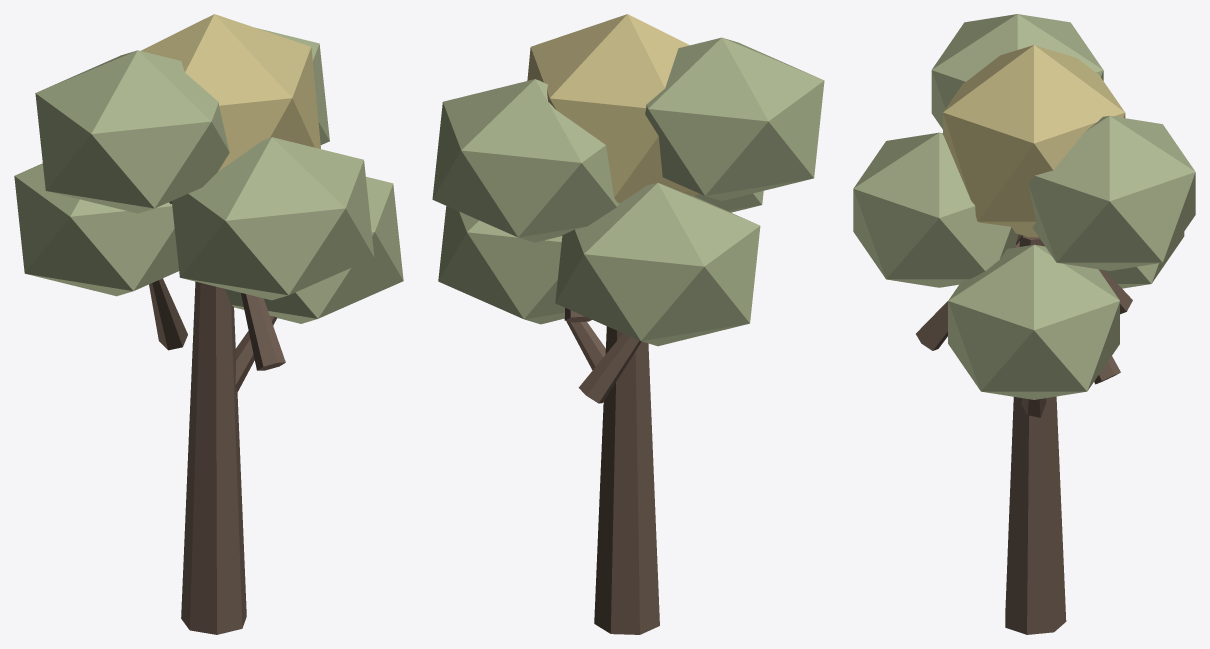
File: tree_0.glb
3 views of the same model, side by side, from view 1: azimuth 30°, elevation 25°; view 2: azimuth 150°, elevation 25°; view 3: azimuth 270°, elevation 25° (orthographic). The views are drawn at different scales.
Parts seen in each view (by area): view 1: Canopy.002, Canopy.004, Trunk, Crown, Canopy.001, Canopy, Branch.002, Branch.001, Canopy.003, Branch; view 2: Canopy.001, Canopy.004, Canopy.003, Crown, Trunk, Canopy, Branch.001, Branch, Canopy.002; view 3: Canopy, Crown, Canopy.003, Canopy.002, Trunk, Canopy.004, Canopy.001, Branch.002.
Boxes of the visible parts, bbox=[...] form: Canopy.002: bbox=[171, 137, 374, 300]; Canopy.004: bbox=[35, 50, 229, 213]; Trunk: bbox=[181, 281, 246, 634]; Crown: bbox=[141, 14, 320, 171]; Canopy.001: bbox=[14, 163, 178, 296]; Canopy: bbox=[225, 176, 403, 323]; Branch.002: bbox=[241, 293, 285, 370]; Branch.001: bbox=[149, 278, 187, 350]; Canopy.003: bbox=[255, 27, 329, 144]; Branch: bbox=[235, 315, 276, 392]; Canopy.001: bbox=[555, 183, 760, 346]; Canopy.004: bbox=[645, 37, 824, 200]; Canopy.003: bbox=[432, 79, 619, 242]; Crown: bbox=[527, 14, 699, 202]; Trunk: bbox=[594, 326, 659, 634]; Canopy: bbox=[438, 206, 564, 324]; Branch.001: bbox=[578, 333, 641, 403]; Branch: bbox=[566, 321, 605, 370]; Canopy.002: bbox=[694, 191, 763, 212]; Canopy: bbox=[948, 244, 1119, 399]; Crown: bbox=[943, 45, 1125, 237]; Canopy.003: bbox=[1028, 115, 1195, 270]; Canopy.002: bbox=[853, 132, 1018, 287]; Trunk: bbox=[1005, 236, 1066, 634]; Canopy.004: bbox=[931, 14, 1103, 129]; Canopy.001: bbox=[1104, 232, 1184, 288]; Branch.002: bbox=[916, 234, 1022, 350].
Bounding box in the file's own units: 3.29 × 5.35 × 2.88.
